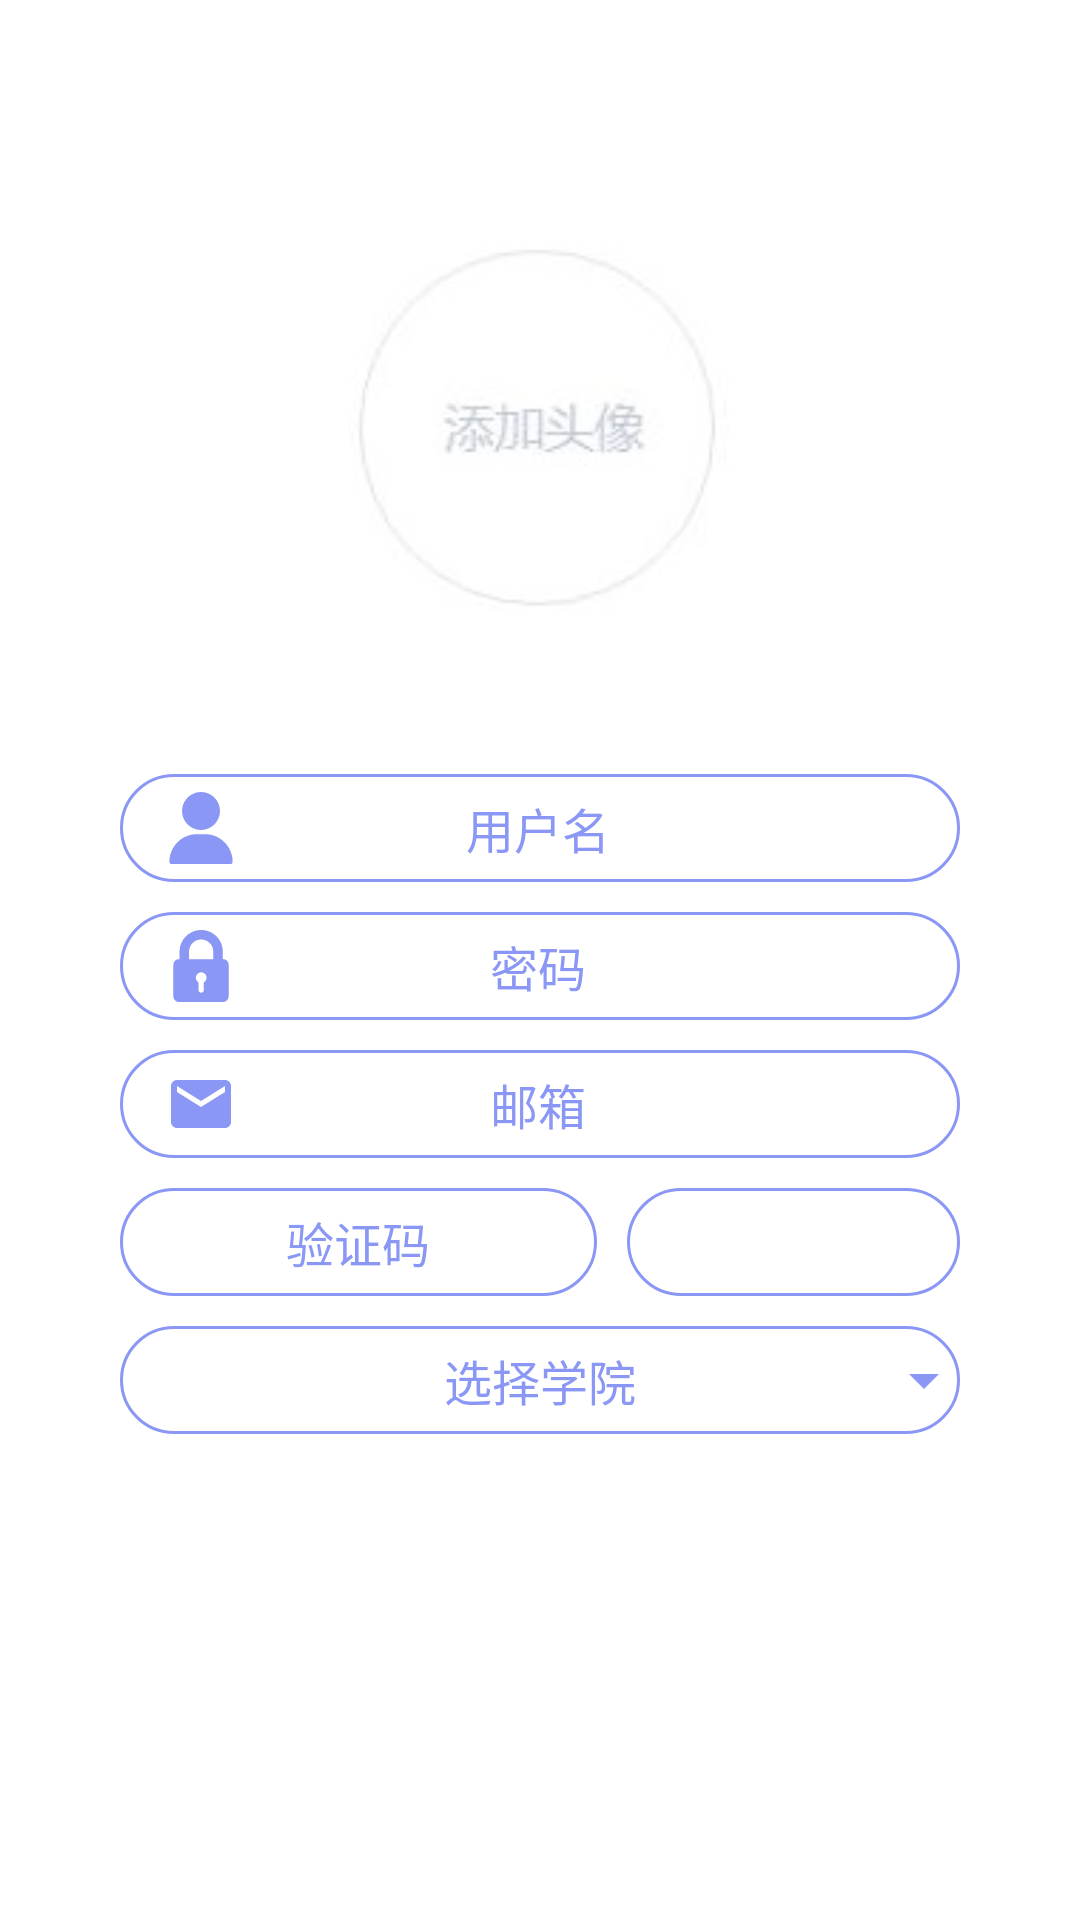

Icons on this 1080w x 1920h Android screen, each with the point to tap as (x,y):
email: (201,1104)
padlock: (201,966)
